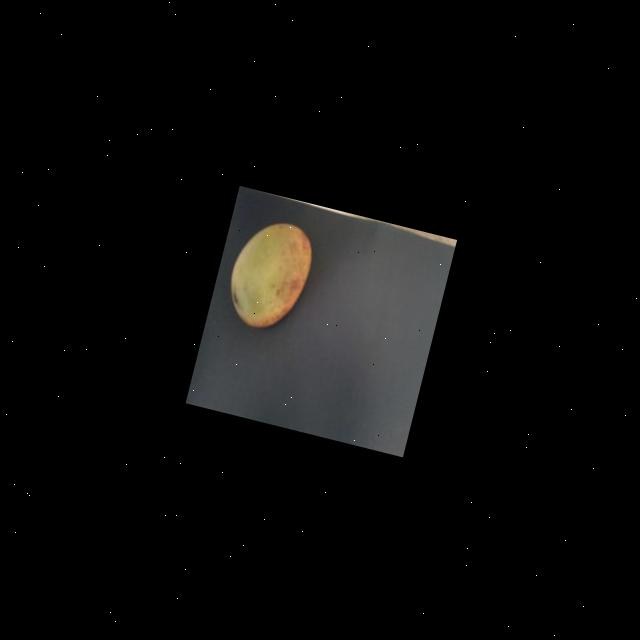Mango: (218, 210, 318, 336)
